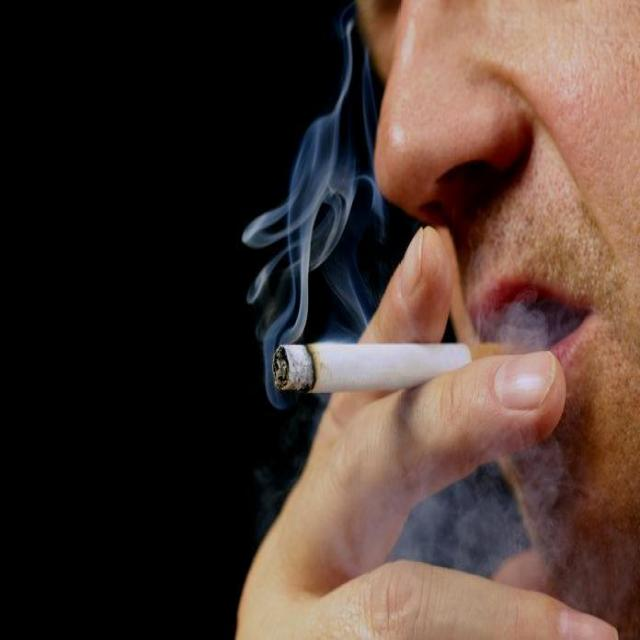cigarette: (270, 338, 472, 401)
